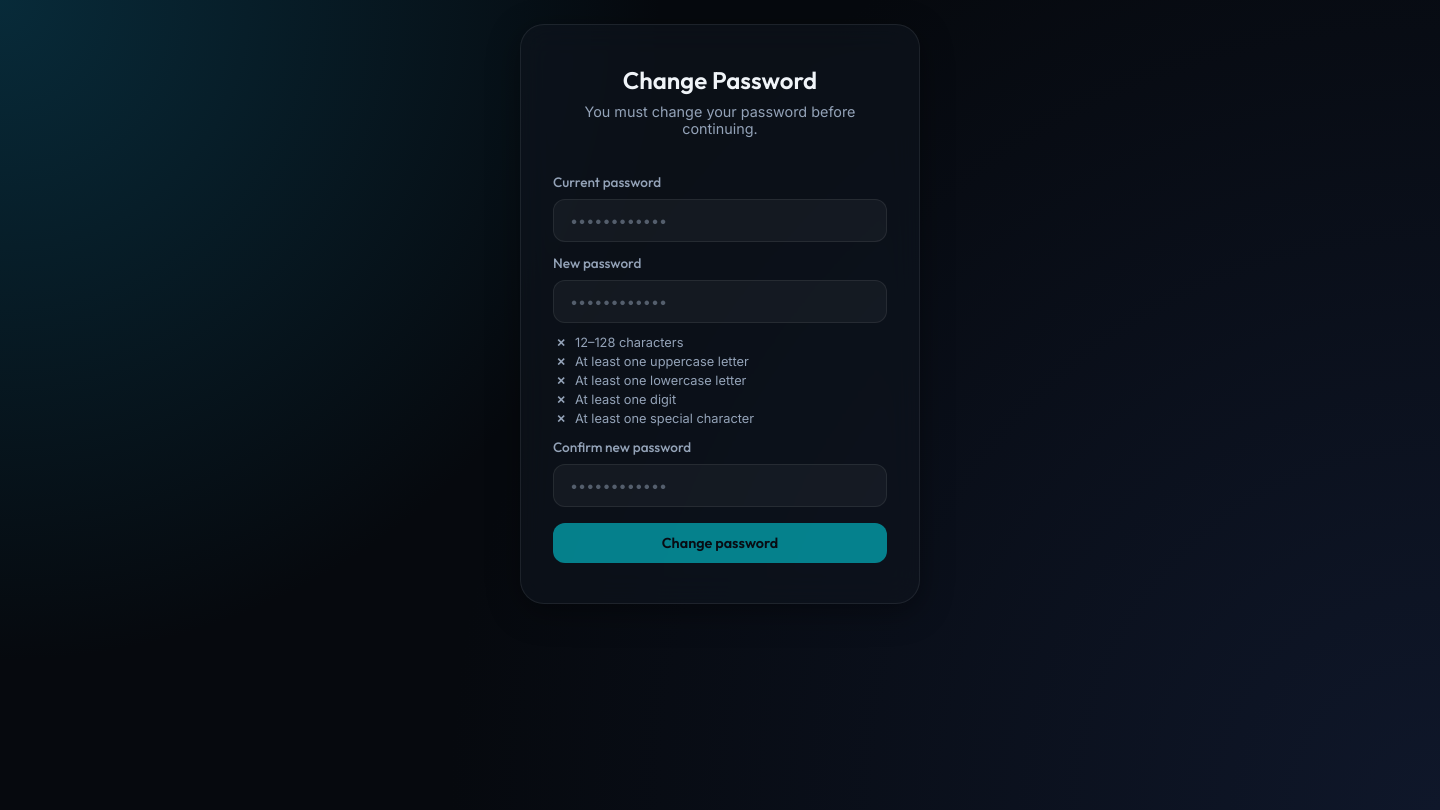
PasswordChangePage › displays server error on failed password change
In the password field labelled "Current password": (720, 220) [553,199,887,242], type "wrongpassword"
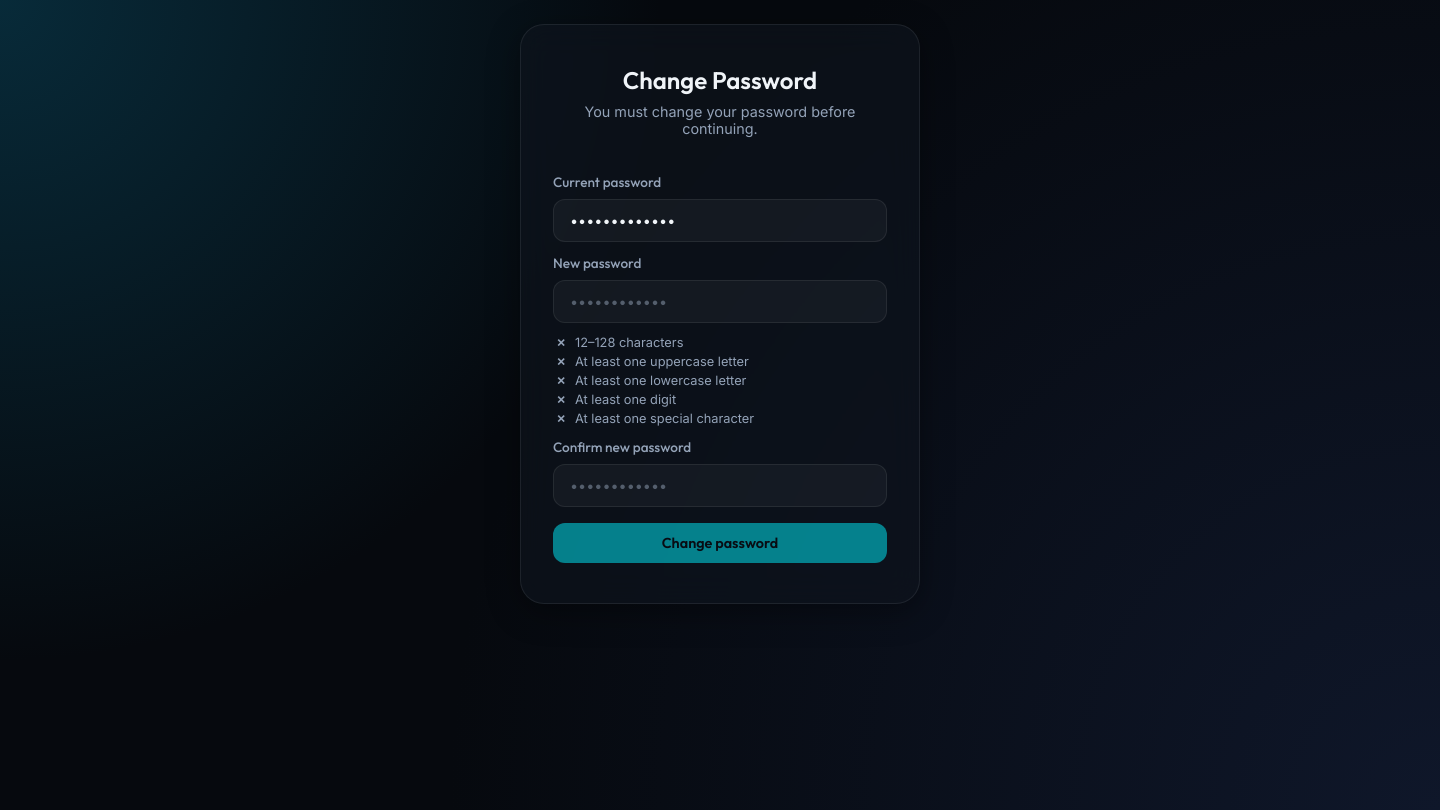
In the password field labelled "New password": (720, 302) [553,280,887,323], type "Abcdefghijk1!"
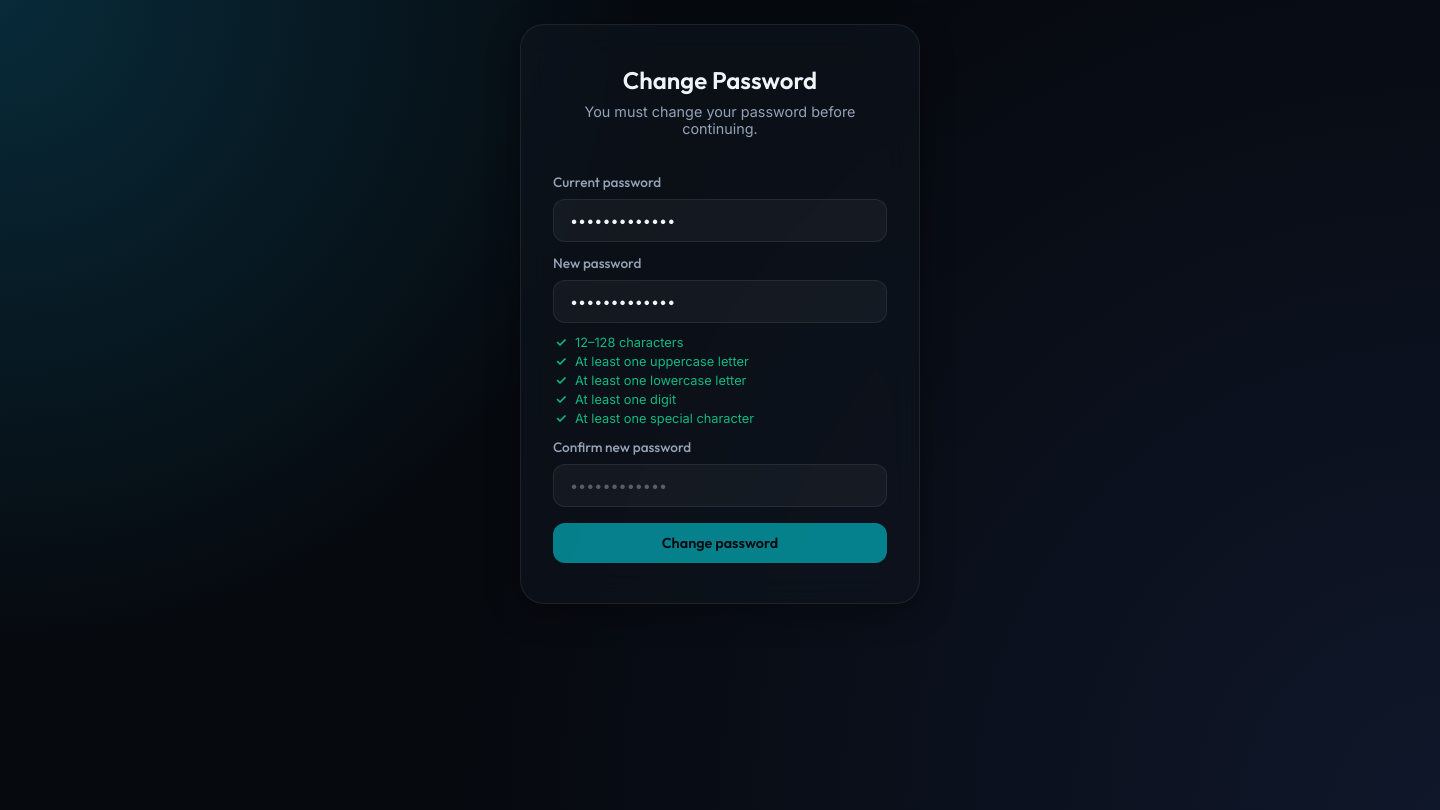
In the password field labelled "Confirm new password": (720, 486) [553,464,887,507], type "Abcdefghijk1!"
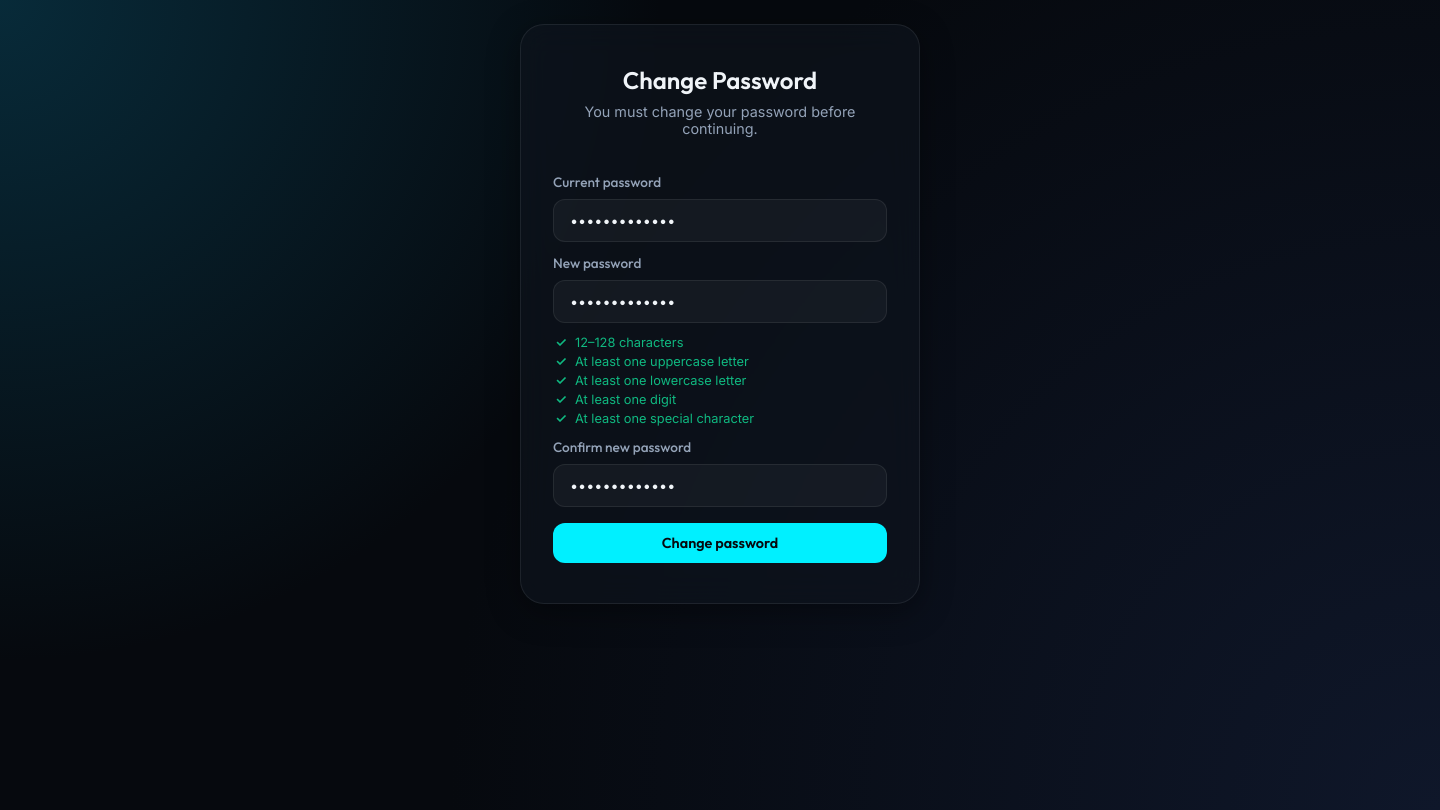
Click the button "Change password": (720, 543) [553,523,887,563]
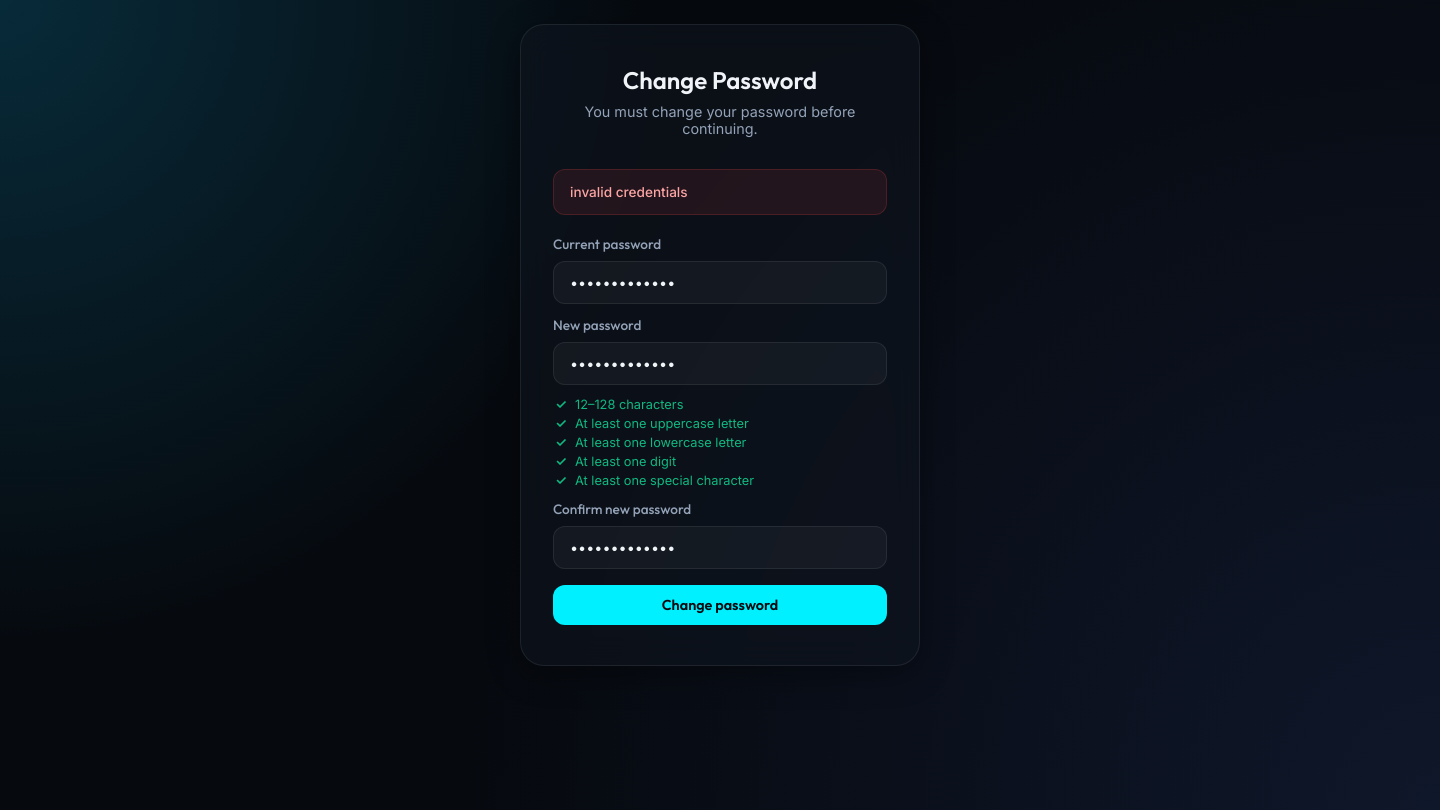
Check: the message reads "invalid credentials", box [570,184,688,200]
